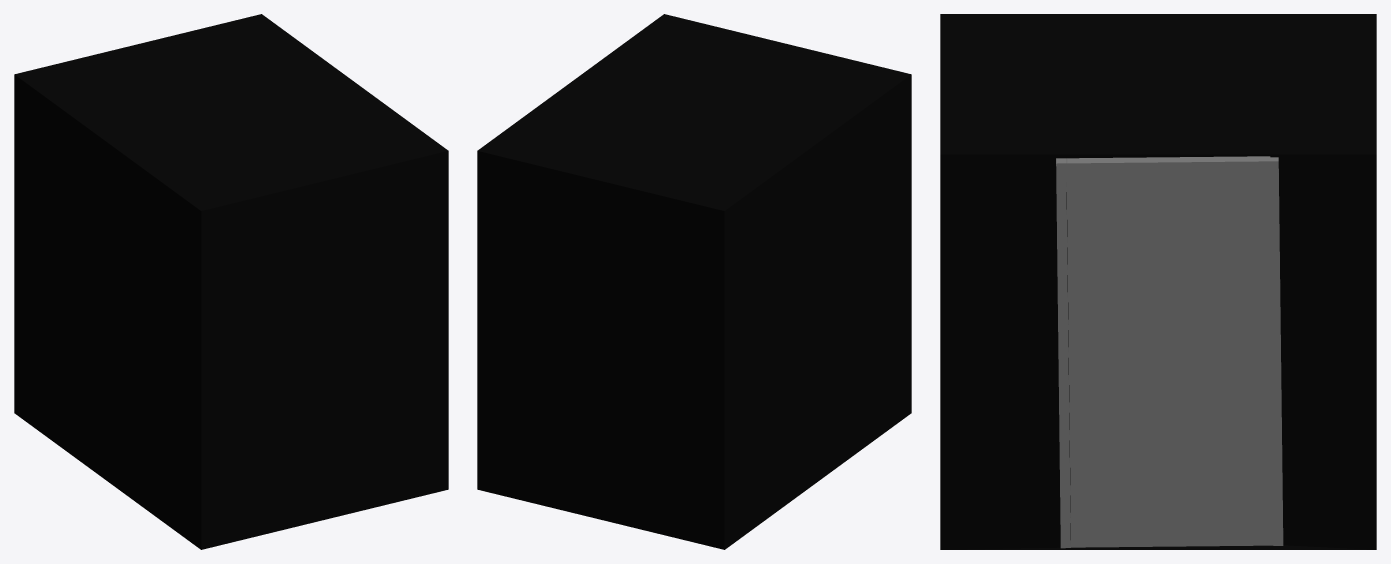
File: basic_elevator.glb
The picture shows the model from 3 angles, left to right: view 1: azimuth 30°, elevation 25°; view 2: azimuth 150°, elevation 25°; view 3: azimuth 270°, elevation 25°; orthographic projection. The views are drawn at different scales.
Parts seen in each view (by area): view 1: Elevator; view 2: Elevator; view 3: Elevator, Door, DoorFrame.
Part boxes in pixels (left/top/right/bottom): Elevator: left=14, top=14, right=448, bottom=549; Elevator: left=477, top=14, right=911, bottom=549; Elevator: left=940, top=14, right=1376, bottom=549; Door: left=1066, top=180, right=1273, bottom=547; DoorFrame: left=1056, top=156, right=1283, bottom=548.
Bounding box in the file's own units: 1.63 × 2.12 × 2.12.
2 materials, 2 textured.
